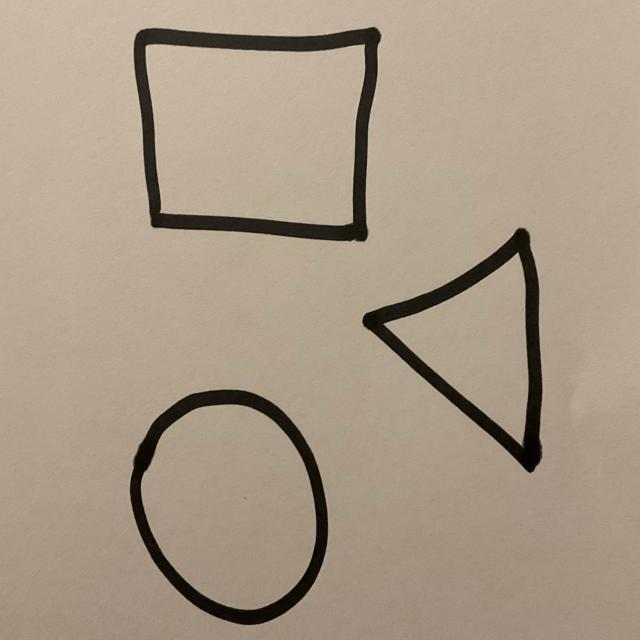Dreieck: (361, 230, 545, 474)
Kreis: (128, 390, 330, 628)
Quadrat: (132, 27, 381, 244)
